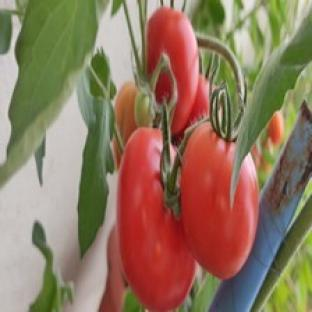Tomato: (117, 127, 194, 310), (182, 123, 259, 278), (147, 7, 199, 135), (99, 226, 125, 311), (175, 76, 208, 142), (115, 81, 137, 144), (268, 111, 284, 146)
